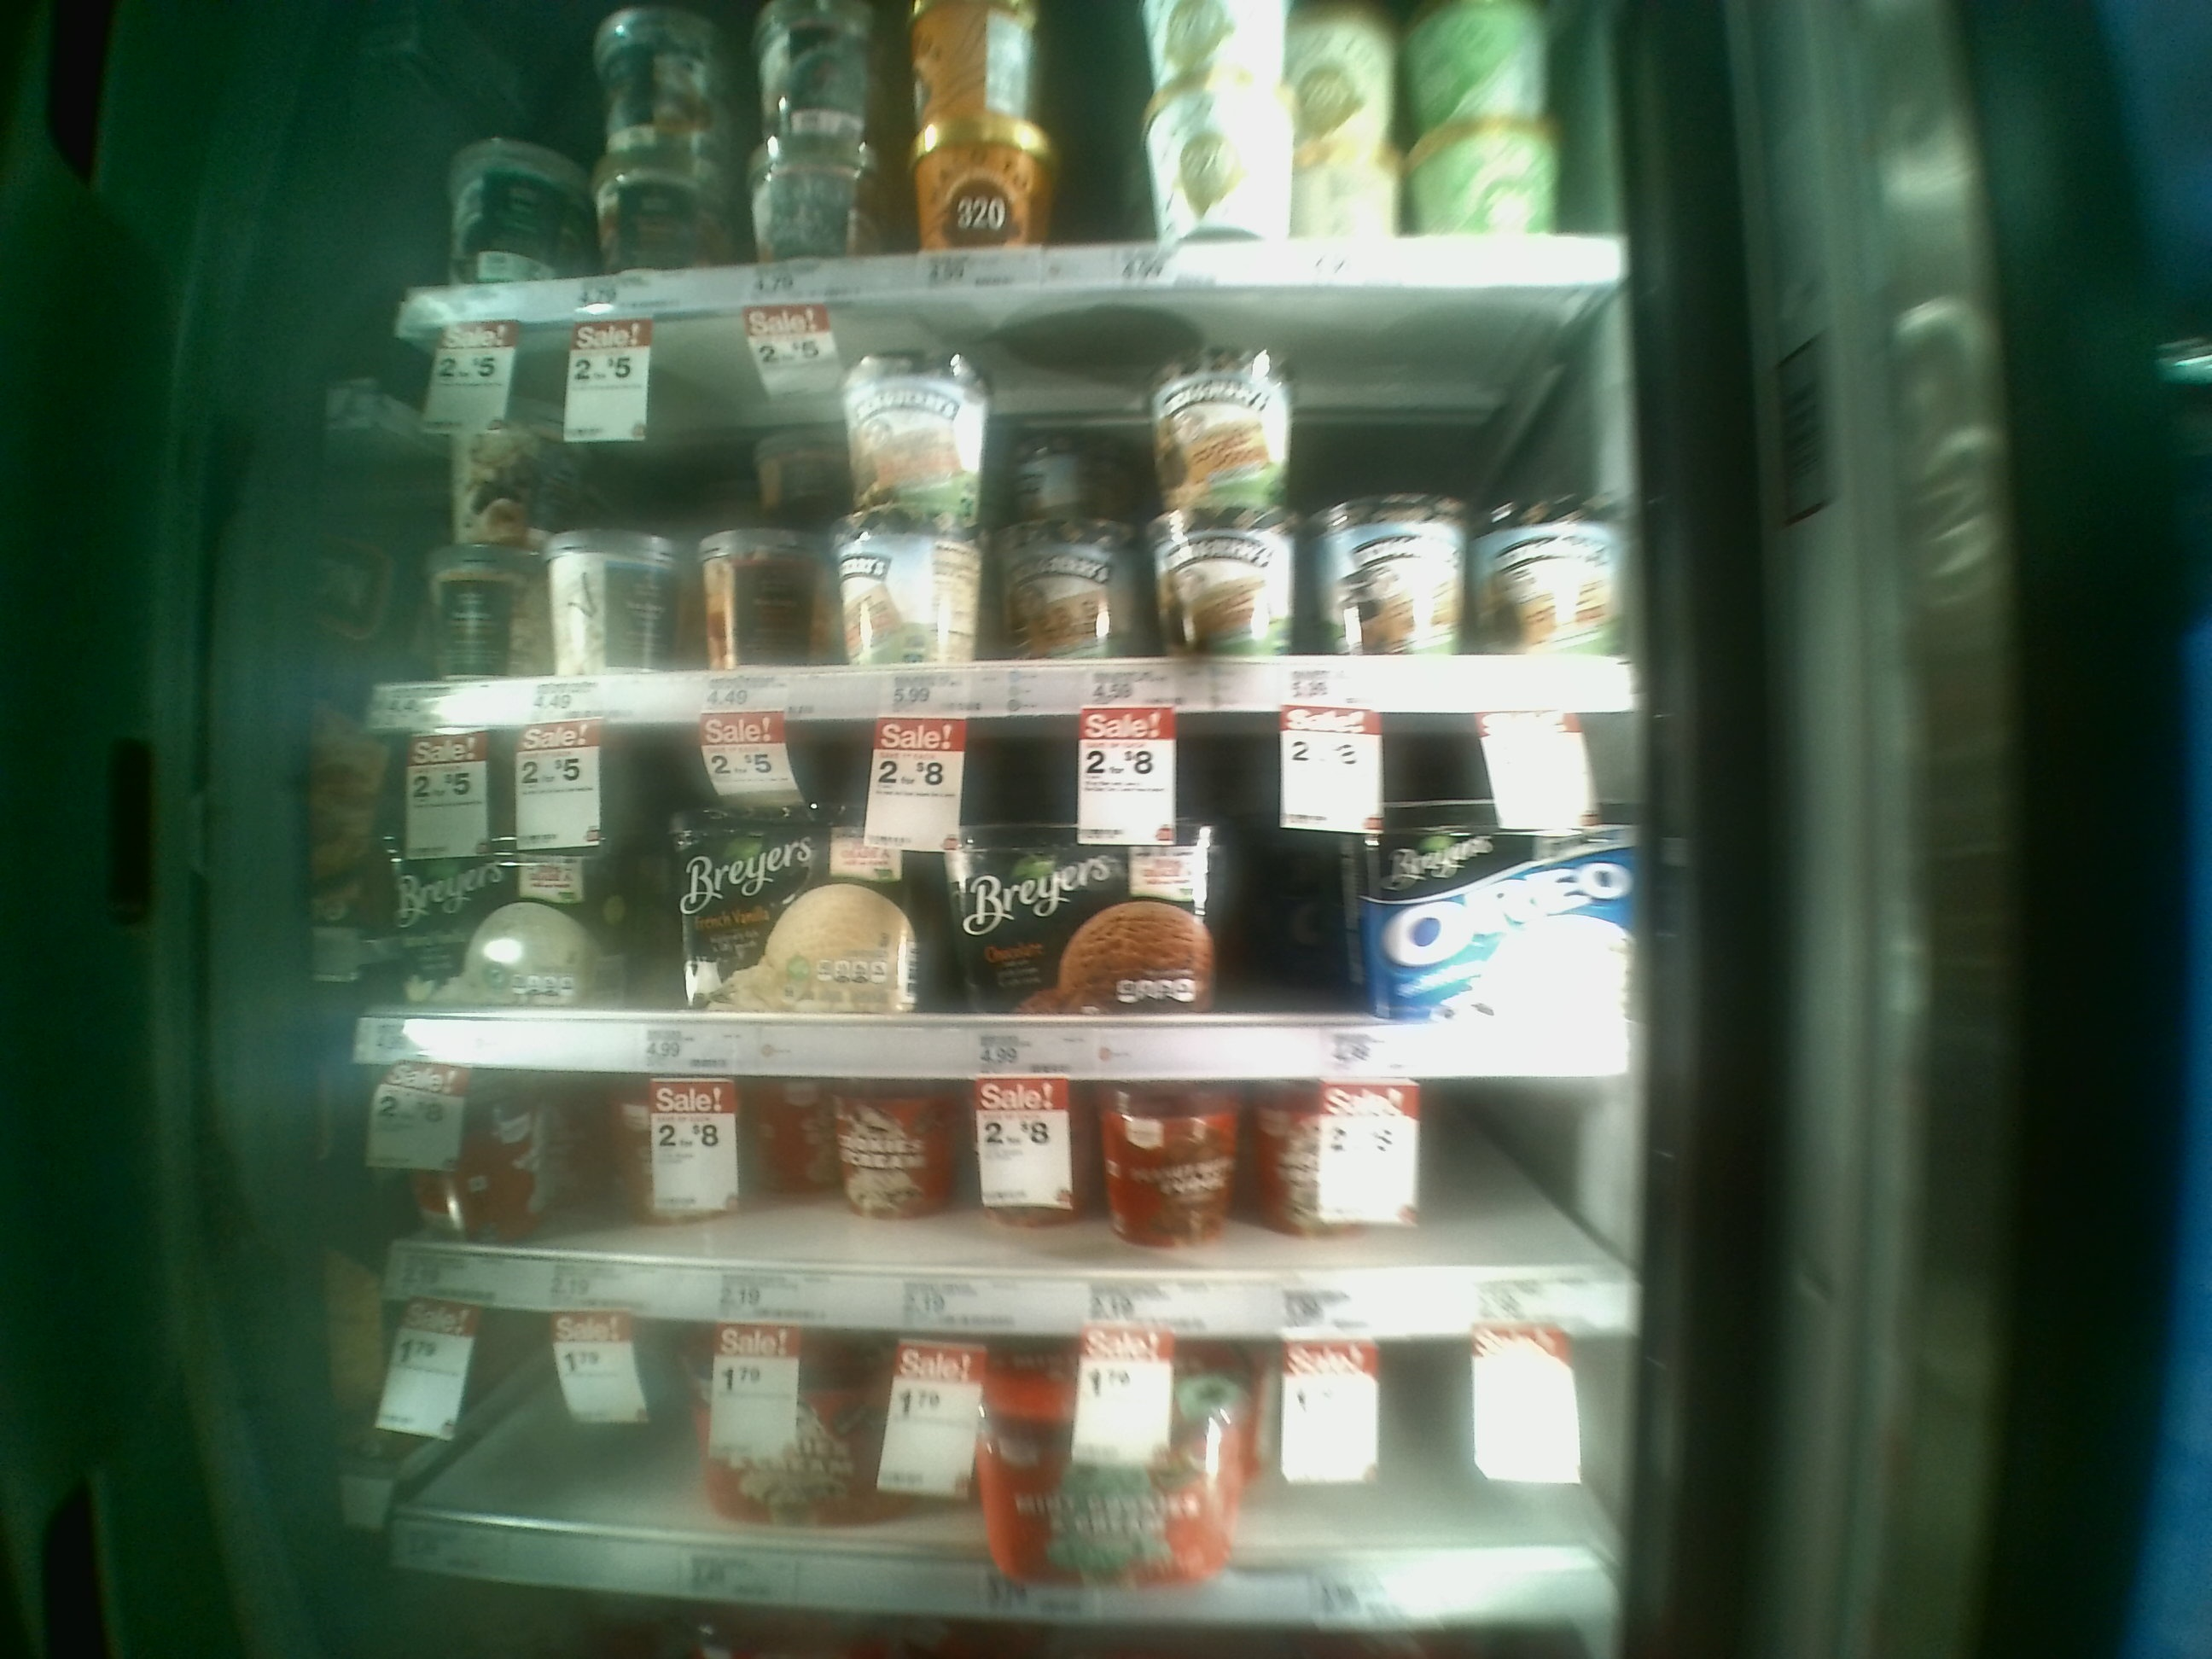ice-cream-shelf: (387, 296, 1629, 711), (366, 708, 1639, 1075), (380, 1324, 1639, 1652), (369, 1068, 1646, 1337)
